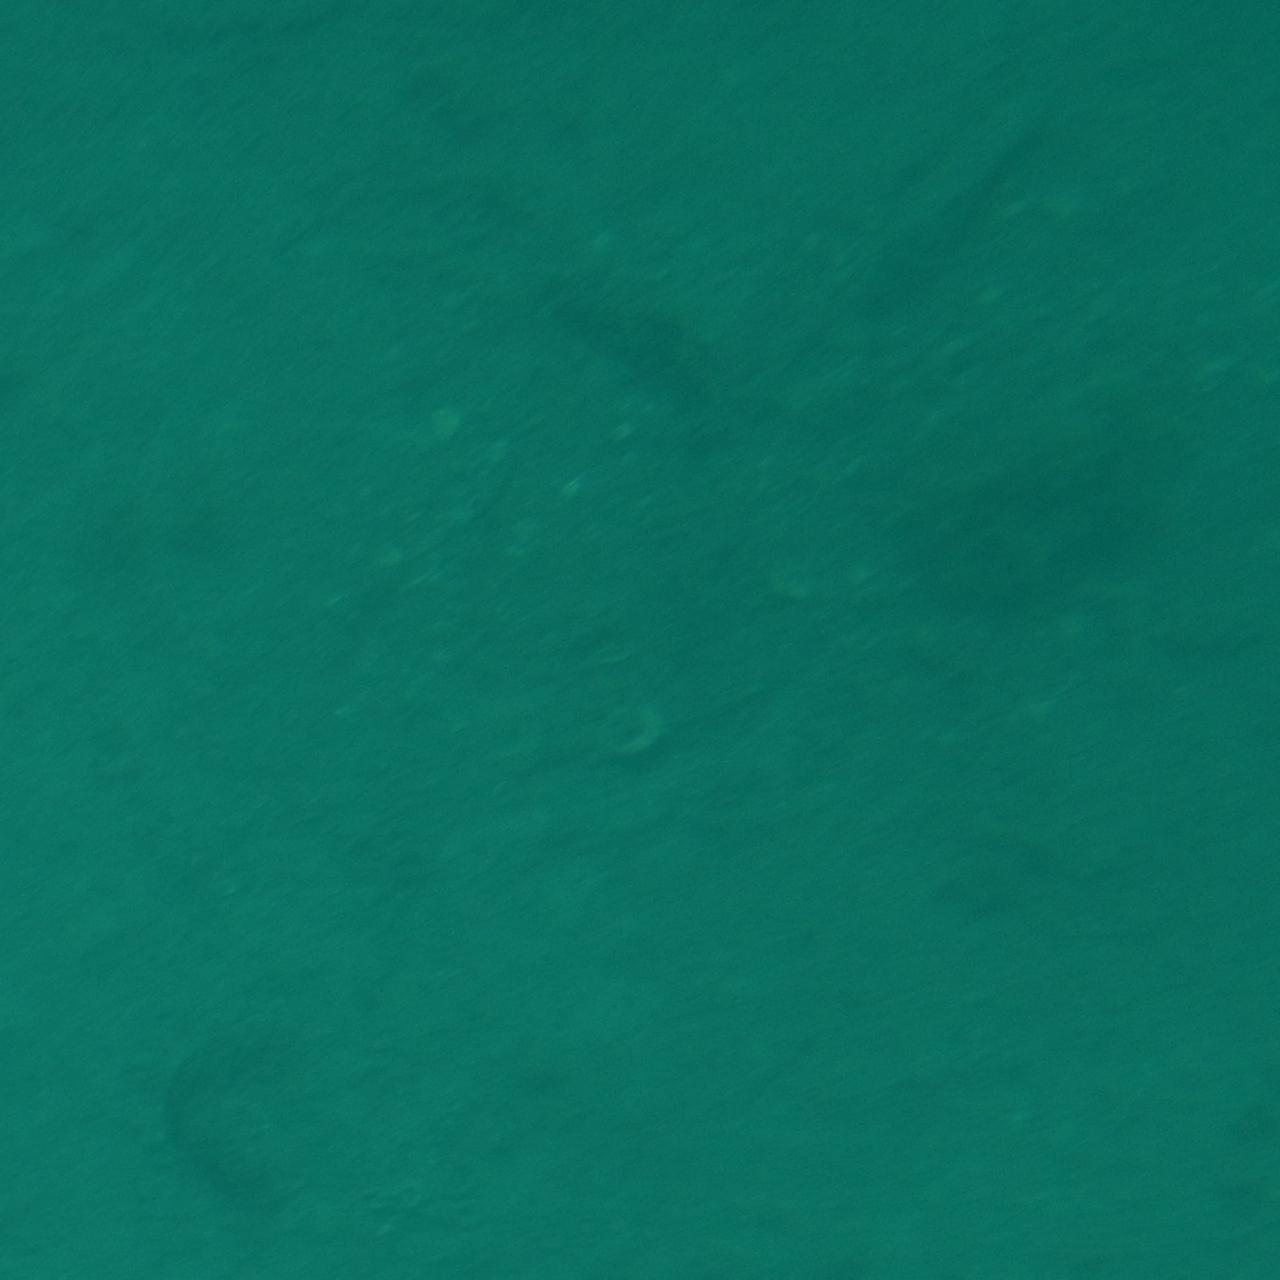Holothuria tubulosa: (859, 41, 1076, 316)
